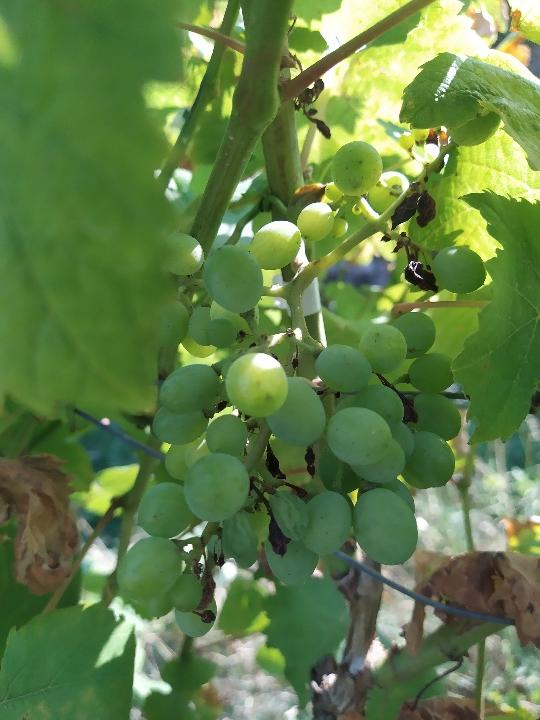grape: (113, 104, 504, 642)
